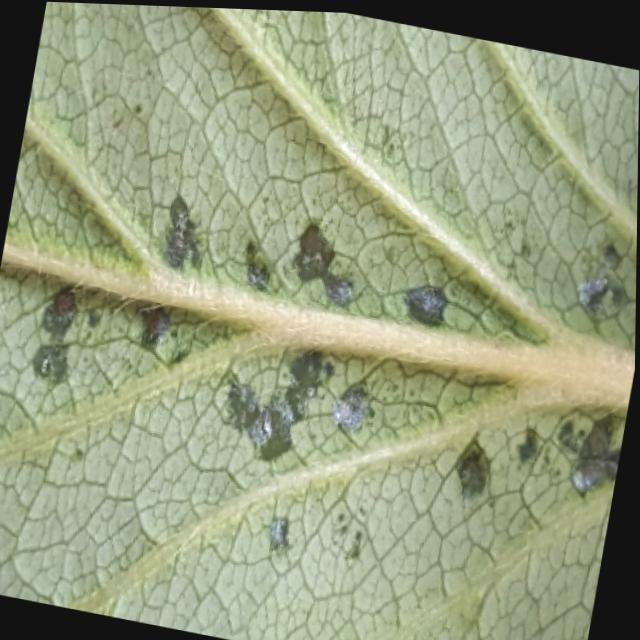Angular Leafspot: (0, 79, 639, 573)
